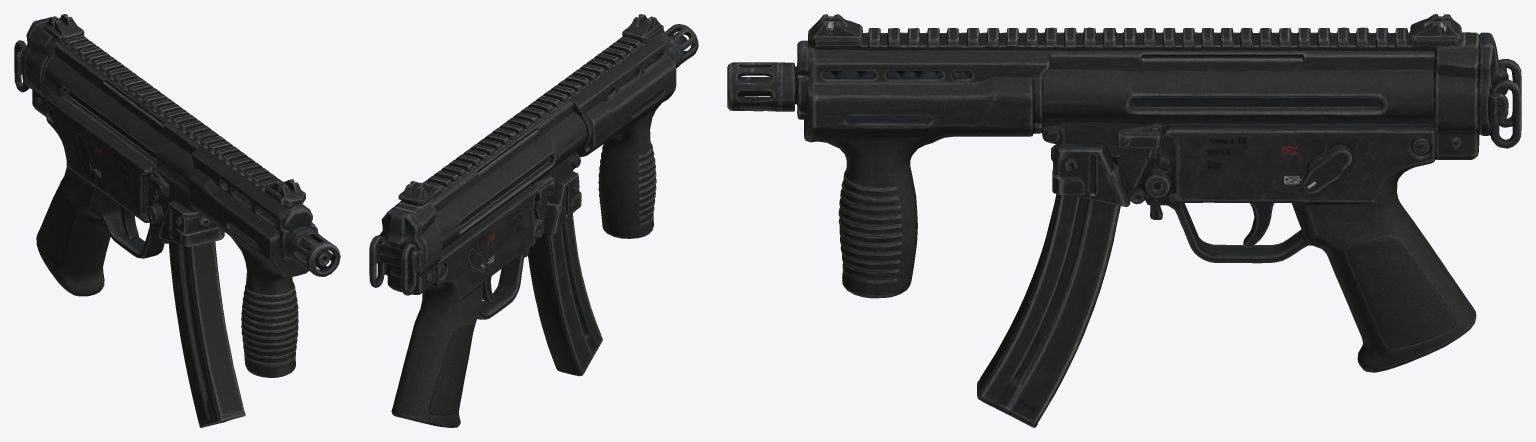
The model's file is mp5k_pdw.high.glb.
3 views of the same model, side by side, from view 1: azimuth 30°, elevation 25°; view 2: azimuth 150°, elevation 25°; view 3: azimuth 270°, elevation 25° (orthographic). The views are drawn at different scales.
Visible parts, largest first — view 1: model; view 2: model; view 3: model.
Part boxes in pixels (left/top/right/bottom): model: left=14, top=14, right=340, bottom=427; model: left=369, top=14, right=698, bottom=427; model: left=727, top=14, right=1521, bottom=427.
Size of the model in its own units: 0.0363 by 0.2065 by 0.37.
1 material, 1 textured.
